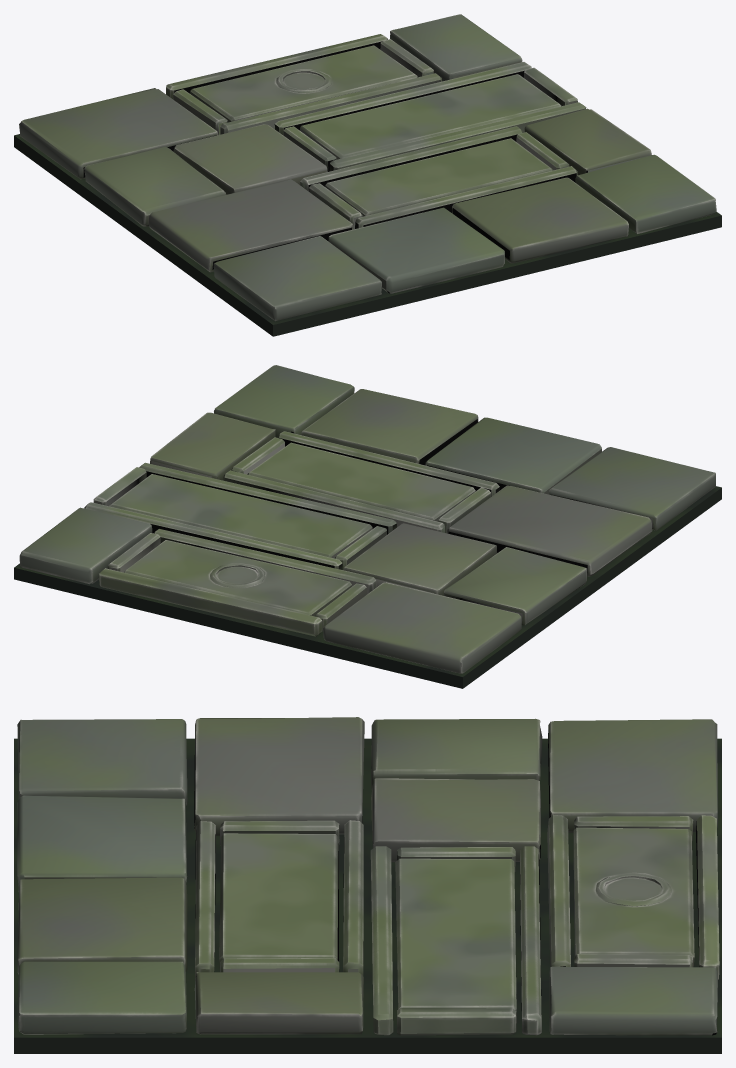
Rendered from crypt_floor_tile.glb.
3 views of the same model, one above another, from view 1: azimuth 30°, elevation 25°; view 2: azimuth 150°, elevation 25°; view 3: azimuth 270°, elevation 25° (orthographic). The views are drawn at different scales.
Visible parts, largest first — view 1: crypt_floor_tile; view 2: crypt_floor_tile; view 3: crypt_floor_tile.
Part boxes in pixels (x1,y1,x2,y2): crypt_floor_tile: [14, 14, 721, 336]; crypt_floor_tile: [14, 365, 721, 688]; crypt_floor_tile: [14, 717, 721, 1053].
Bounding box in the file's own units: 4 × 0.2614 × 4.
1 material, 1 textured.
